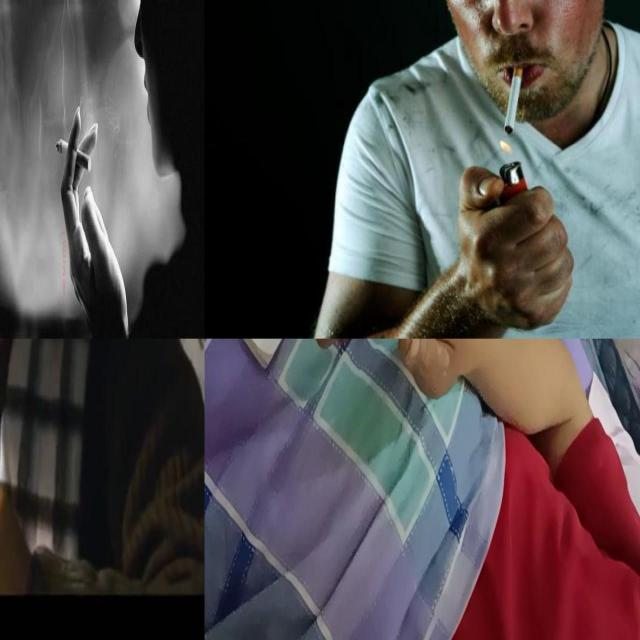cigarette: (503, 62, 525, 138), (56, 138, 92, 174)
